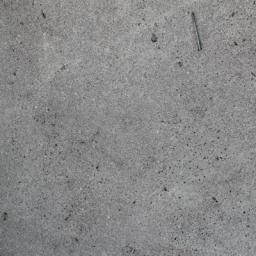FOD: (190, 12, 206, 56)
